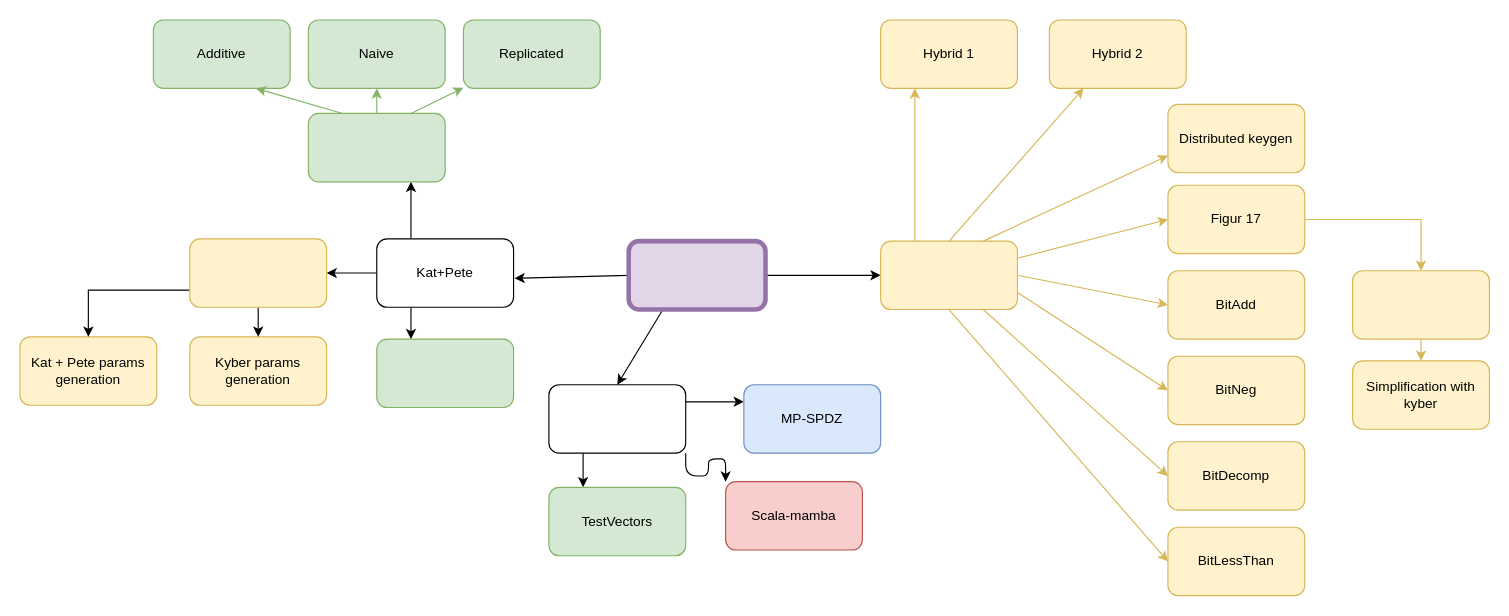
This 1509x616 diagram has some shape labels left out. Each missing label, with the box of its shape:
Center: (1351, 270, 1489, 339)
Circuit: (548, 384, 686, 453)
Distributed decrypt: (376, 338, 514, 408)
Gladius: (880, 240, 1017, 310)
Masters: (626, 238, 767, 311)
Params: (189, 238, 327, 307)
Secret sharing: (307, 112, 445, 182)
